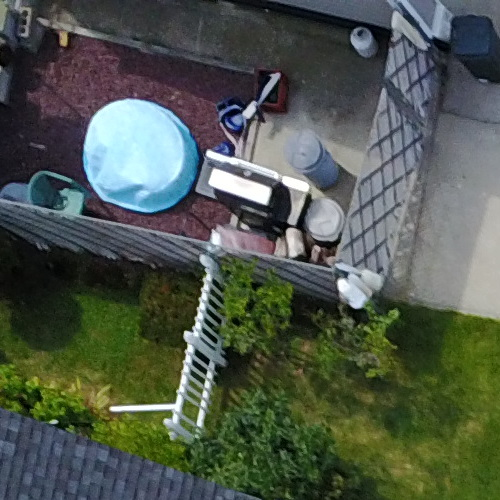container: (66, 82, 204, 227), (244, 60, 285, 121)
trash bin: (281, 122, 359, 193), (290, 180, 354, 256)
